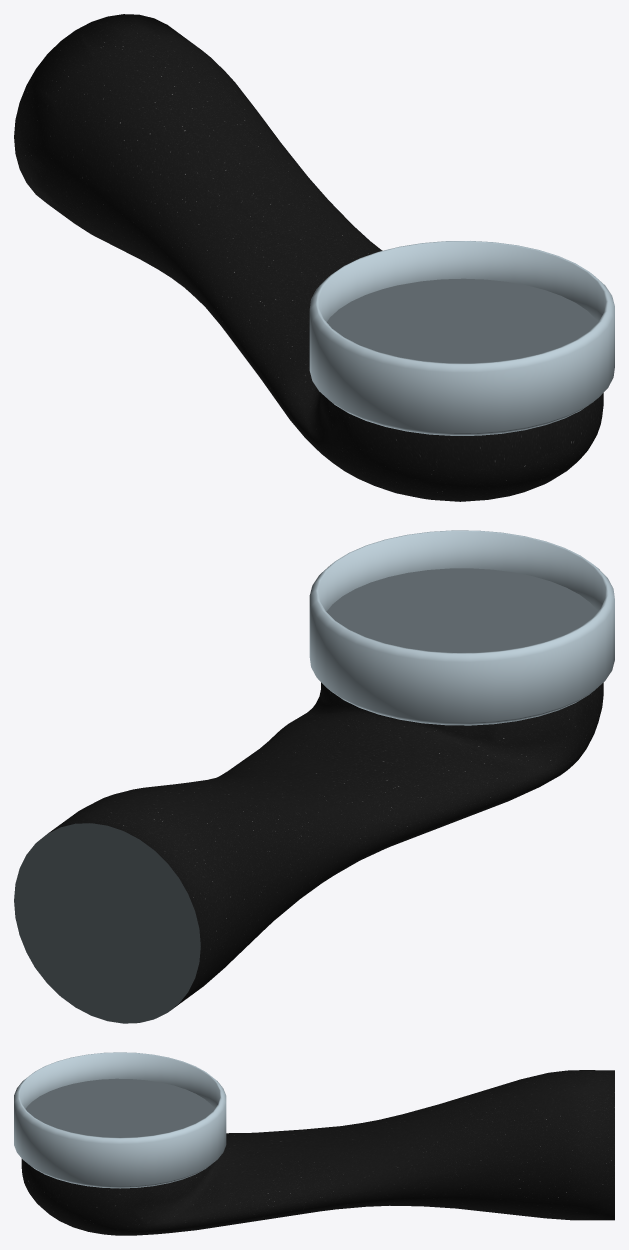
The model's file is forearm.dae.
3 views of the same model, one above another, from view 1: azimuth 30°, elevation 25°; view 2: azimuth 150°, elevation 25°; view 3: azimuth 270°, elevation 25° (orthographic). The views are drawn at different scales.
Visible parts, largest first — view 1: node.003, Ring Big; view 2: node.003, Ring Big; view 3: node.003, Ring Big.
Part boxes in pixels (left/top/right/bottom): node.003: left=14, top=14, right=603, bottom=501; Ring Big: left=309, top=241, right=614, bottom=435; node.003: left=14, top=568, right=603, bottom=1023; Ring Big: left=309, top=530, right=614, bottom=725; node.003: left=21, top=1070, right=614, bottom=1235; Ring Big: left=14, top=1052, right=226, bottom=1188.
Size of the model in its own units: 0.0892 by 0.2517 by 0.063.
Materials: 1 (1 with a texture image).
